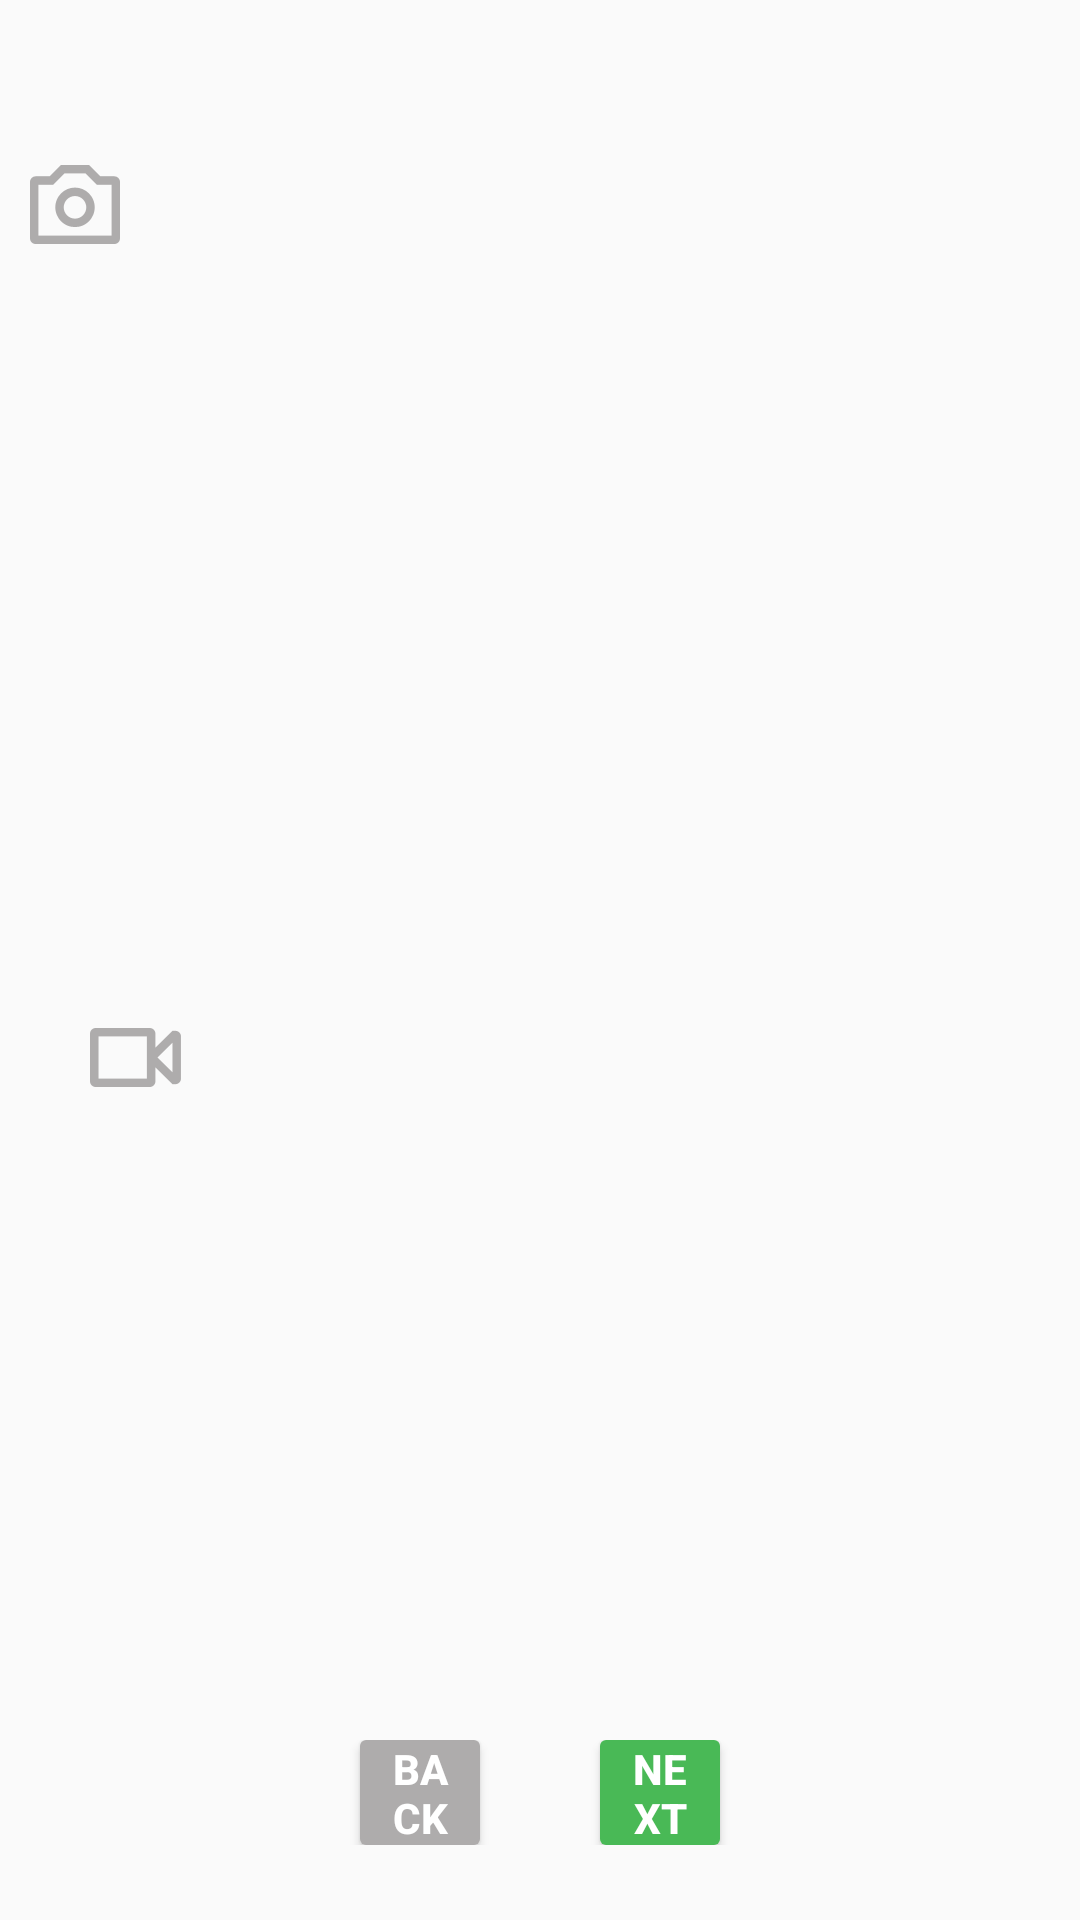

Icons on this 1080px×1920px Android screen, each with its box as (x1,y1,x2,y2):
camera: (30,165,120,244)
video: (90,1028,181,1087)
